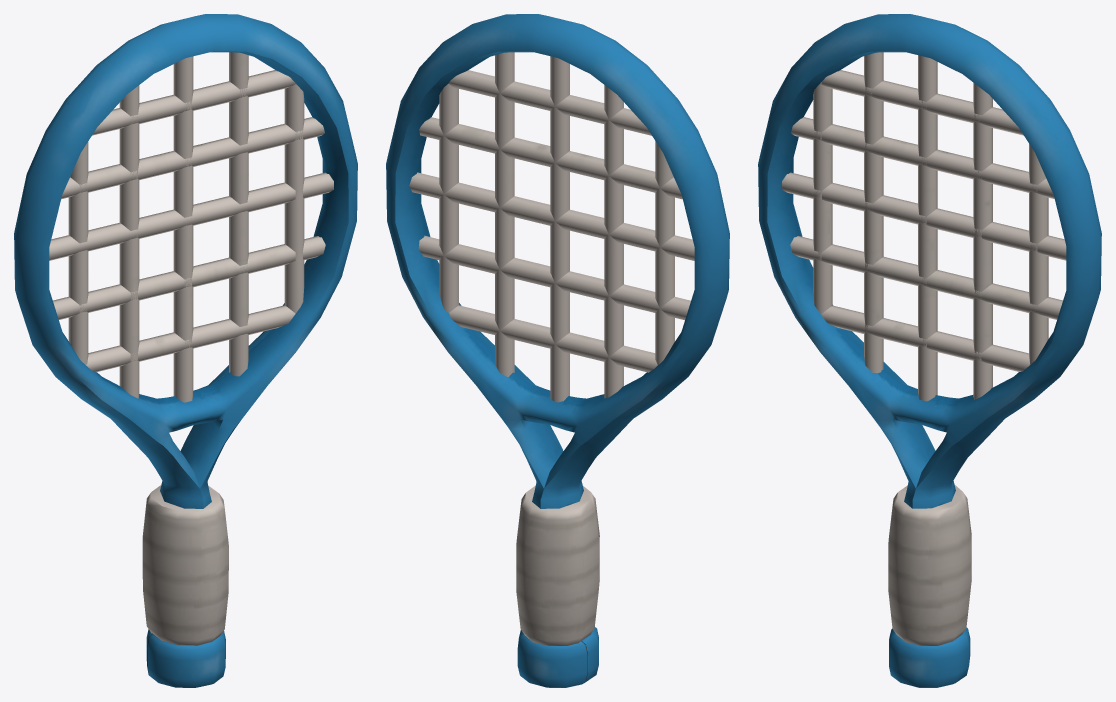
File: 0-tennisracket_blue.fbx
The picture shows the model from 3 angles, left to right: view 1: azimuth 30°, elevation 25°; view 2: azimuth 150°, elevation 25°; view 3: azimuth 330°, elevation 25°; orthographic projection.
Parts seen in each view (by area): view 1: 0-tennisracket_blue; view 2: 0-tennisracket_blue; view 3: 0-tennisracket_blue.
Part boxes in pixels (x1=…): 0-tennisracket_blue: x1=14, y1=14, x2=357, y2=687; 0-tennisracket_blue: x1=386, y1=14, x2=729, y2=687; 0-tennisracket_blue: x1=758, y1=14, x2=1101, y2=687.
Size of the model in its own units: 53.05 by 97.42 by 12.
